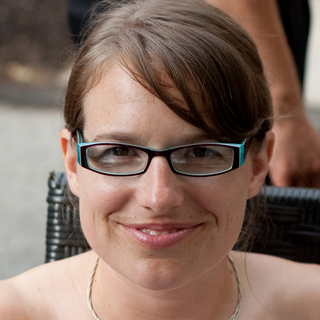eye: (177, 142, 227, 166), (97, 143, 144, 163)
